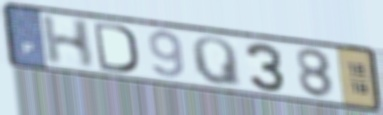3: (243, 41, 287, 93)
8: (293, 46, 335, 100)
9: (146, 28, 188, 81)
D: (91, 20, 141, 76)
H: (39, 14, 96, 70)
Q: (189, 35, 245, 90)
